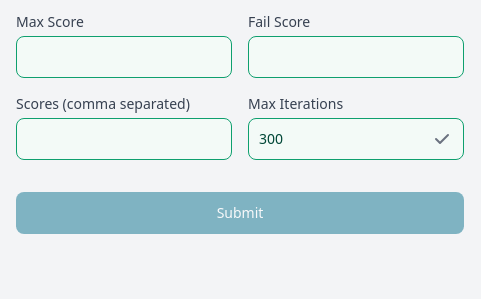
Test: KMeansFormAndResult › Input fields interactions › displays validation error when Max Score is too low
Type "111" into the field labelled "Max Score".
click(124, 57); type("111")  # box 16,36 -> 232,78
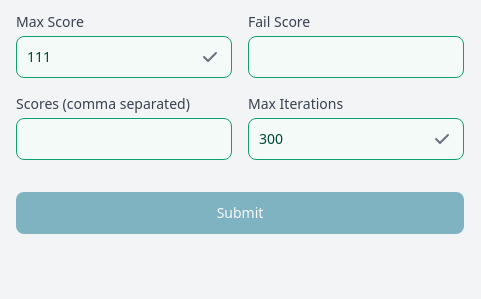
Type "22" into the field labelled "Fail Score".
click(356, 57); type("22")  # box 248,36 -> 464,78
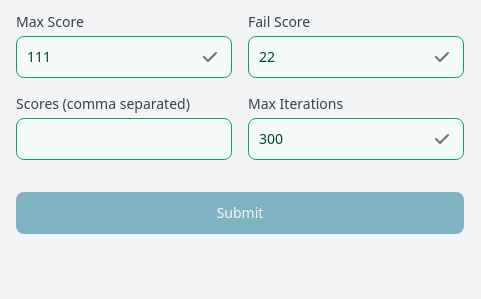
Type "11,22,33,44,55,66" into the field labelled "Scores (comma separated)".
click(124, 139); type("11,22,33,44,55,66")  # box 16,118 -> 232,160
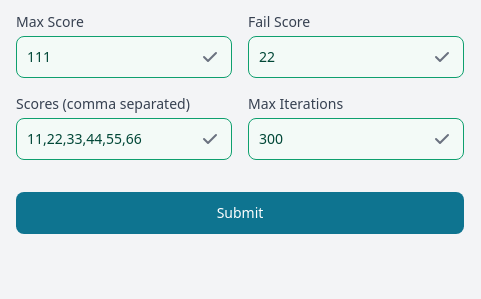
Replace the text in the field labelled "Max Score" with "9" at (124, 57), box 16,36 -> 232,78
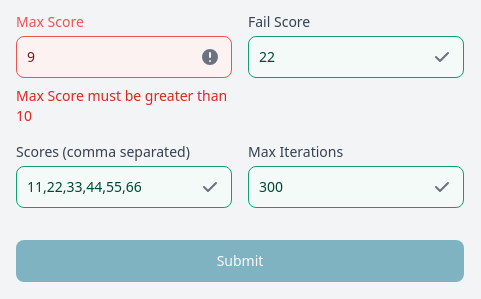
Result: the text "Max Score must be greater than 10" is shown at 16,86 -> 232,126
